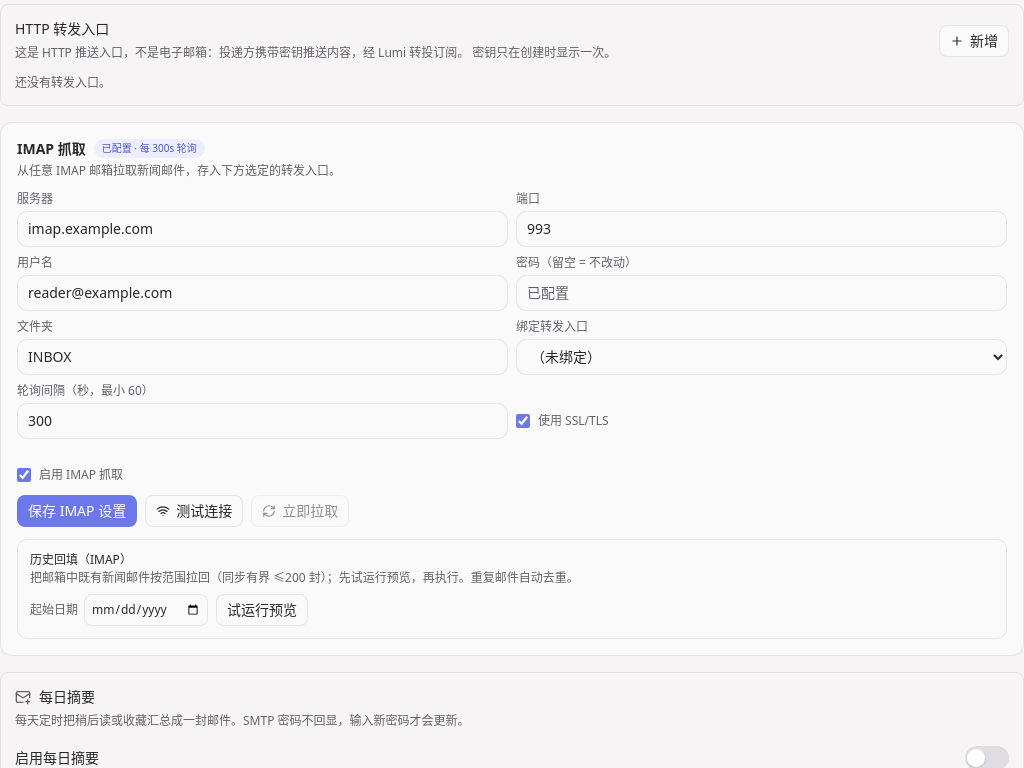
F007 IMAP 启停 › F007: 测试连接失败 → 错误文案诚实透出，不伪造成功
Click the button "测试连接": (194, 510) [145, 494, 243, 526]
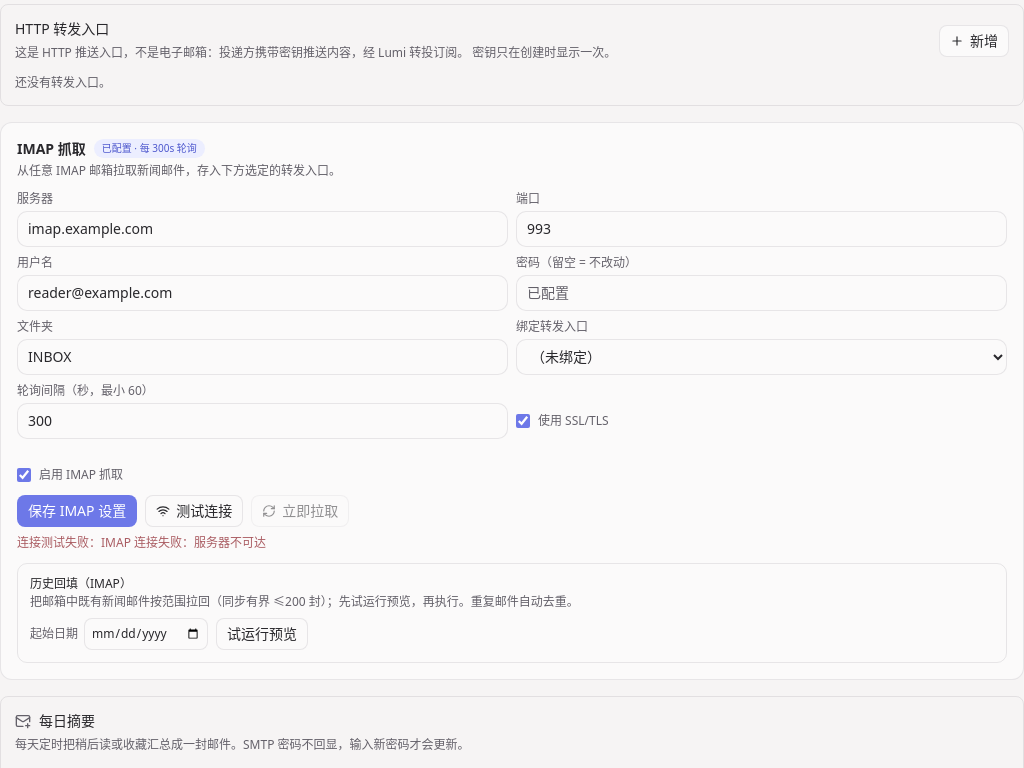
Expected: the text "连接测试失败：IMAP 连接失败：服务器不可达" is shown, [17, 534, 266, 550]
